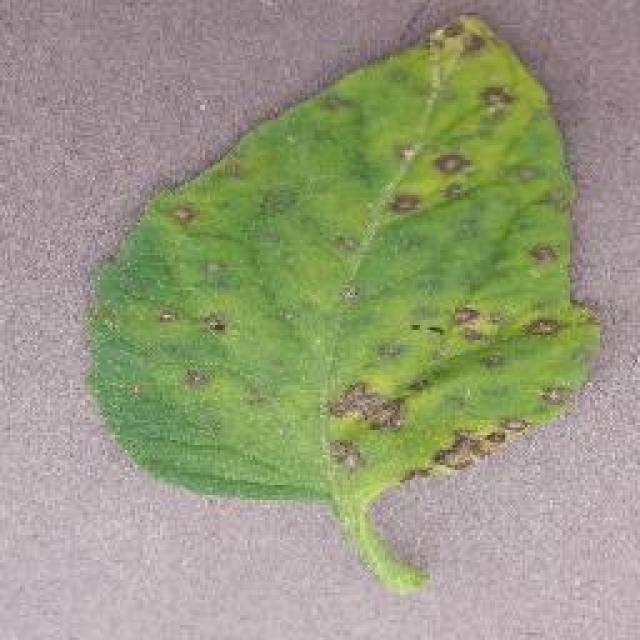Tom_Septoria_leaf_spot: (316, 275, 578, 483), (370, 25, 528, 219), (145, 201, 241, 409)
